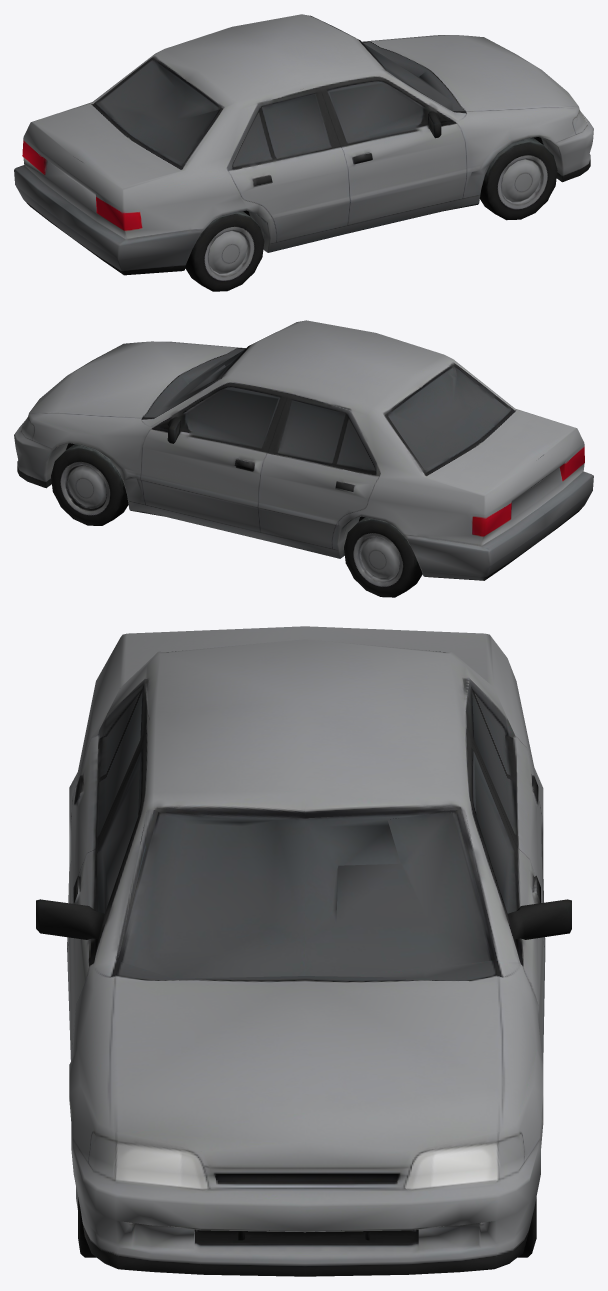
Rendered from sedan-tripo.glb.
3 views of the same model, one above another, from view 1: azimuth 30°, elevation 25°; view 2: azimuth 150°, elevation 25°; view 3: azimuth 270°, elevation 25° (orthographic). The views are drawn at different scales.
Visible parts, largest first — view 1: tripo_node_12a139cc-e04d-48a9-af0b-90728bc45c23; view 2: tripo_node_12a139cc-e04d-48a9-af0b-90728bc45c23; view 3: tripo_node_12a139cc-e04d-48a9-af0b-90728bc45c23.
Boxes of the visible parts, left/top/right/bottom form: tripo_node_12a139cc-e04d-48a9-af0b-90728bc45c23: left=14, top=14, right=593, bottom=291; tripo_node_12a139cc-e04d-48a9-af0b-90728bc45c23: left=14, top=320, right=593, bottom=597; tripo_node_12a139cc-e04d-48a9-af0b-90728bc45c23: left=36, top=626, right=571, bottom=1276.
Size of the model in its own units: 1 by 0.3464 by 0.4716.
Materials: 1 (1 with a texture image).
